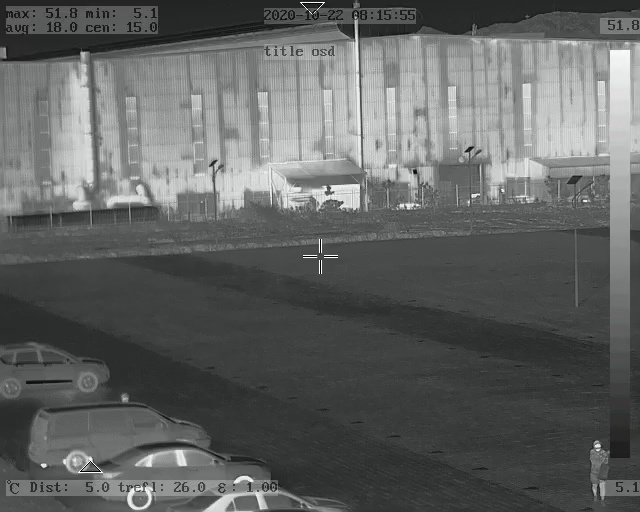person: (589, 440, 609, 500)
vehicle: (20, 398, 205, 470), (88, 442, 270, 508), (1, 346, 112, 399), (175, 483, 346, 512)
